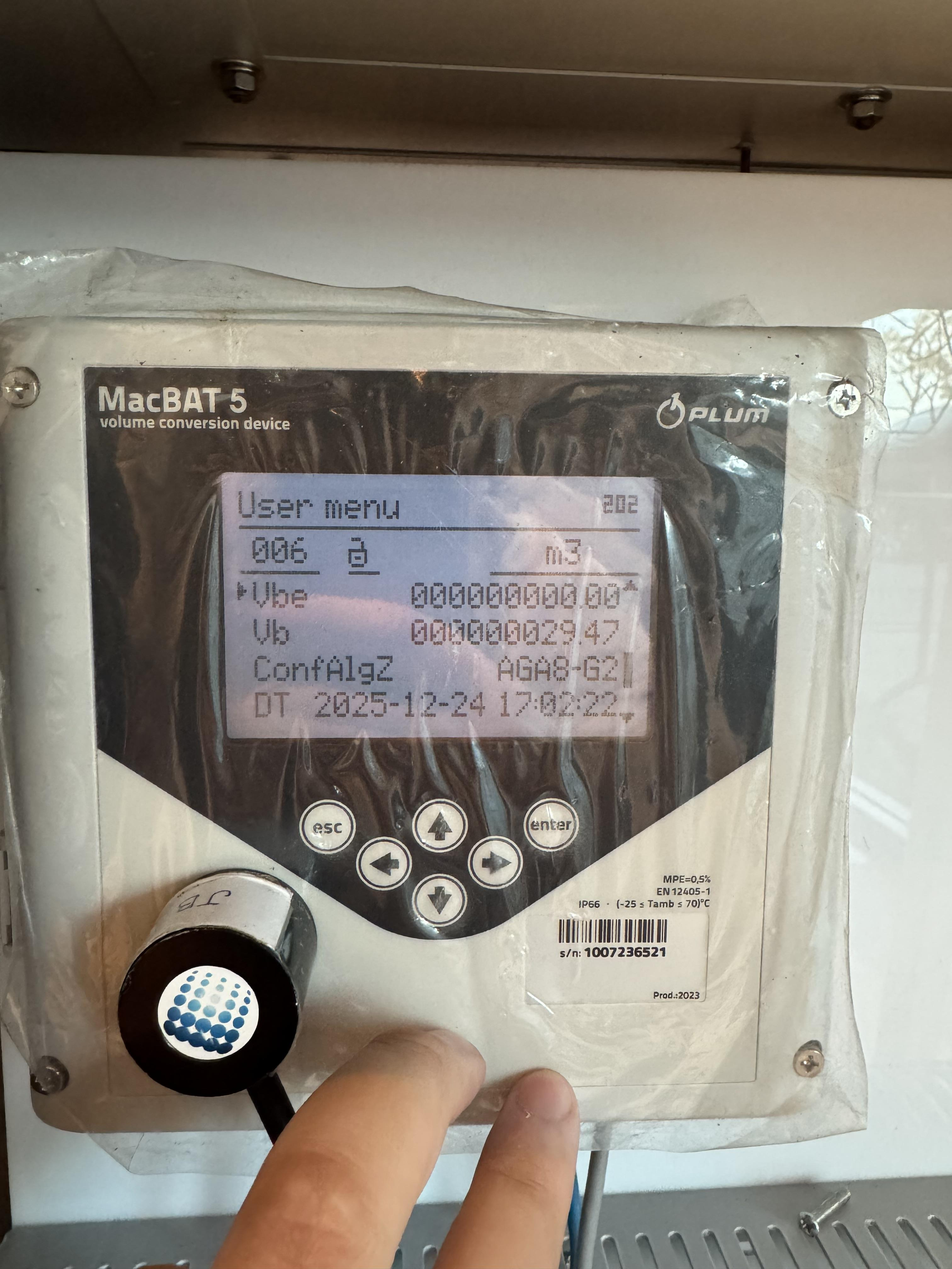digital_screen: (220, 474, 660, 740)
